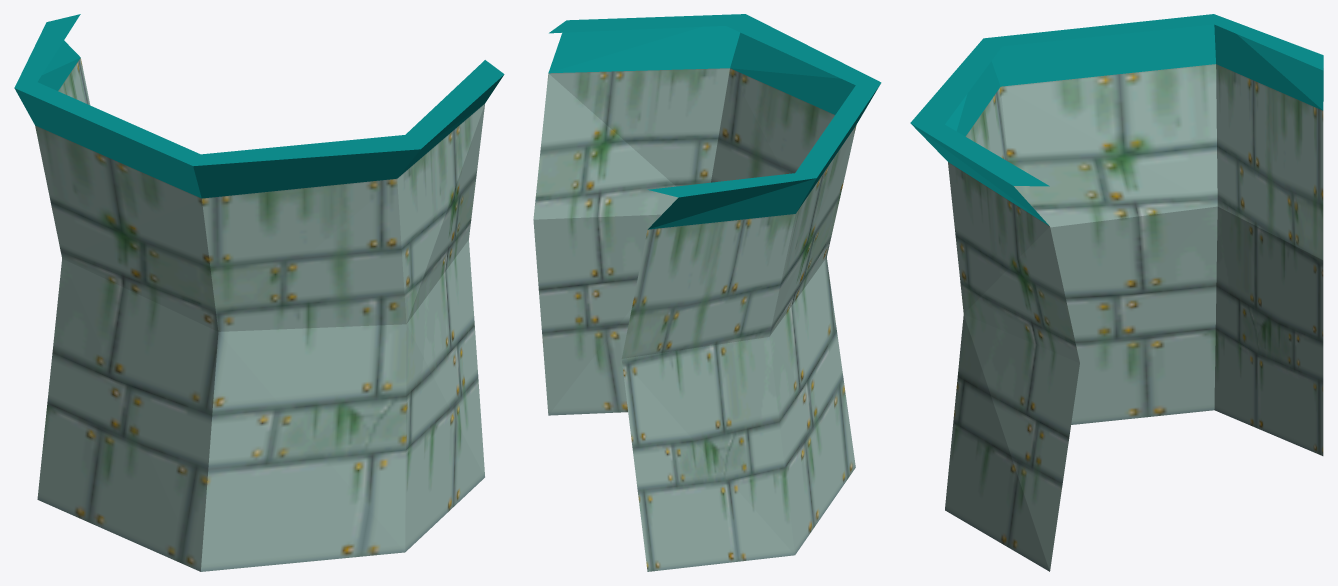
File: W_A_Erker_xxxx [Türkis]_1952.glb
3 renders of one model, left to right at view 1: azimuth 30°, elevation 25°; view 2: azimuth 150°, elevation 25°; view 3: azimuth 270°, elevation 25°, orthographic. The views are drawn at different scales.
Visible parts, largest first — view 1: pPlaneShape3, pPlaneShape1; view 2: pPlaneShape3, pPlaneShape1; view 3: pPlaneShape3, pPlaneShape1.
Part boxes in pixels (bbox=[...]): pPlaneShape3: bbox=[35, 58, 484, 571]; pPlaneShape1: bbox=[14, 14, 504, 198]; pPlaneShape3: bbox=[533, 68, 856, 571]; pPlaneShape1: bbox=[548, 14, 881, 229]; pPlaneShape3: bbox=[945, 64, 1323, 571]; pPlaneShape1: bbox=[910, 14, 1323, 225].
Bounding box in the file's own units: 0.3726 × 0.3891 × 0.3781.
Materials: 2 (1 with a texture image).
